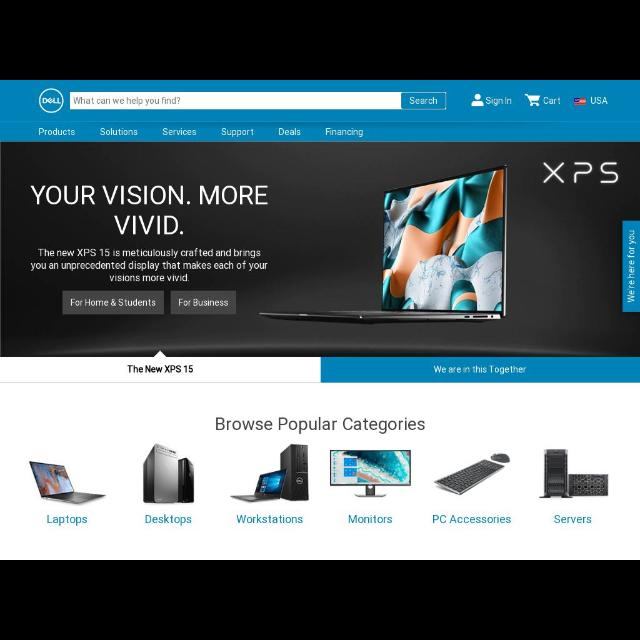icon: (525, 94, 541, 106), (472, 94, 484, 106)
image: (1, 144, 639, 356), (230, 445, 310, 503), (329, 450, 411, 498), (28, 460, 106, 506), (434, 452, 511, 496), (540, 449, 608, 498), (143, 444, 195, 504), (38, 88, 64, 114), (574, 98, 586, 105)
input: (70, 91, 446, 109)
multitab: (1, 122, 639, 142)
text: (217, 418, 426, 434), (74, 96, 180, 106), (433, 514, 511, 524), (434, 366, 526, 374), (236, 514, 304, 524), (145, 514, 191, 526), (126, 366, 194, 374), (47, 514, 87, 526), (326, 128, 364, 138), (554, 514, 592, 524), (348, 516, 392, 524), (220, 128, 253, 138), (100, 128, 138, 136), (39, 128, 75, 136), (163, 128, 197, 136), (486, 96, 512, 105), (279, 128, 301, 136), (410, 98, 438, 104), (543, 97, 561, 105), (590, 97, 608, 105)
textbutton: (402, 93, 446, 109)
toolbar: (2, 80, 640, 121)
